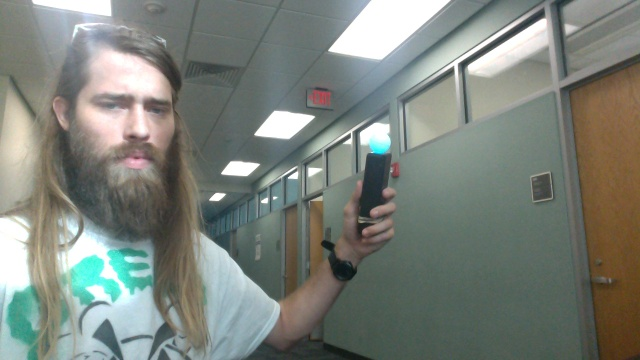wand: (369, 131, 391, 154)
